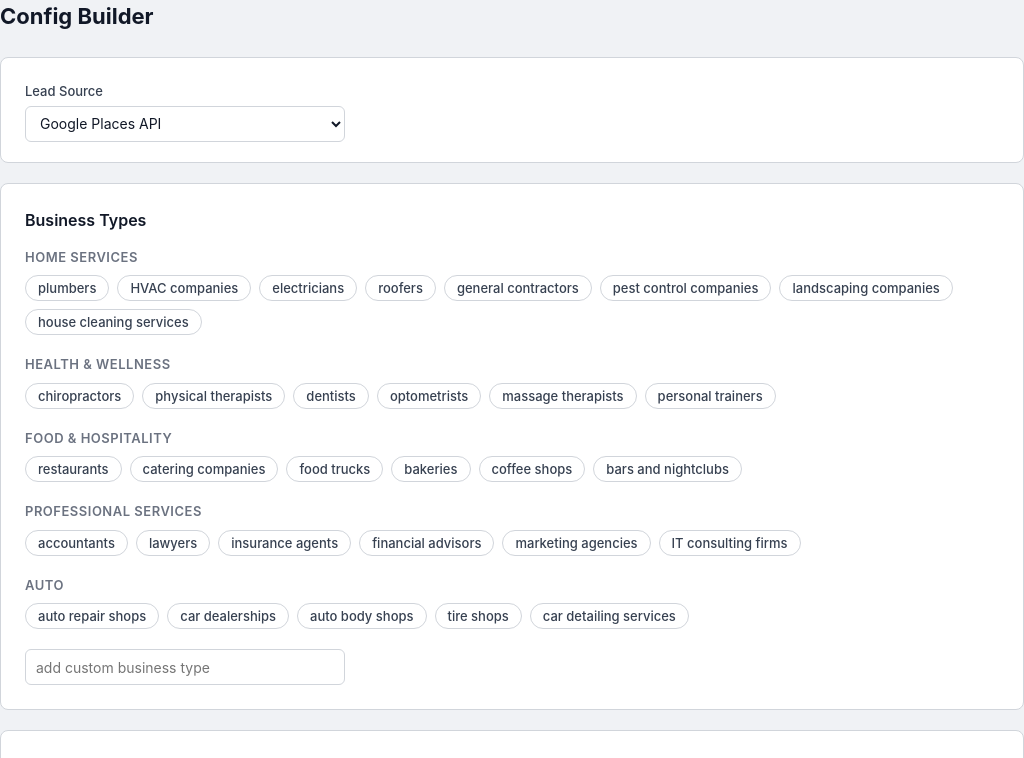
ConfigBuilder — source selector › switching to Apify Google Maps shows search term and state fields, no city
Step 1. Select "Apify — Google Maps Scraper" in the dropdown labelled "Lead Source" → {"x": 185, "y": 124}, box [25,106,345,142]
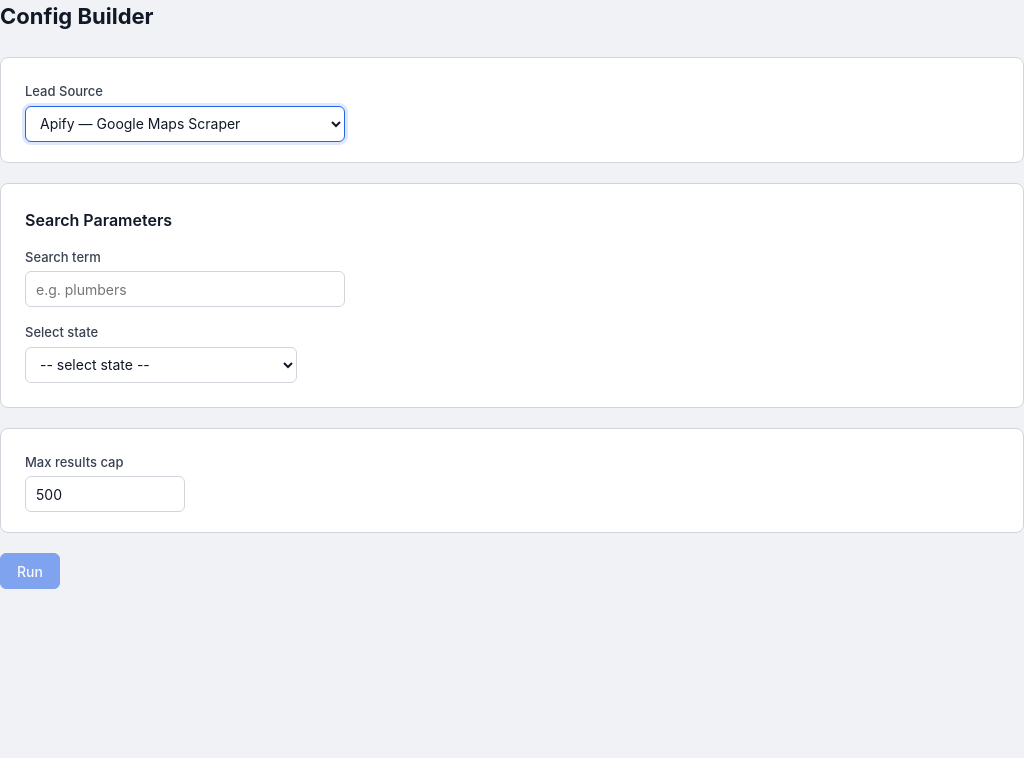
Expected: the field labelled "Search term" is shown, [25,271,345,307]
Expected: the dropdown labelled "Select state" is shown, [25,346,297,382]
Expected: the heading "Home Services" is gone
